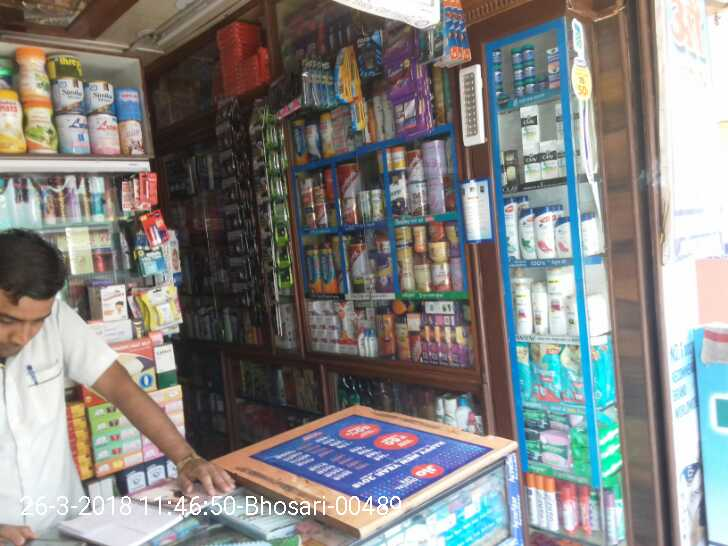vicks: (493, 46, 562, 98)
